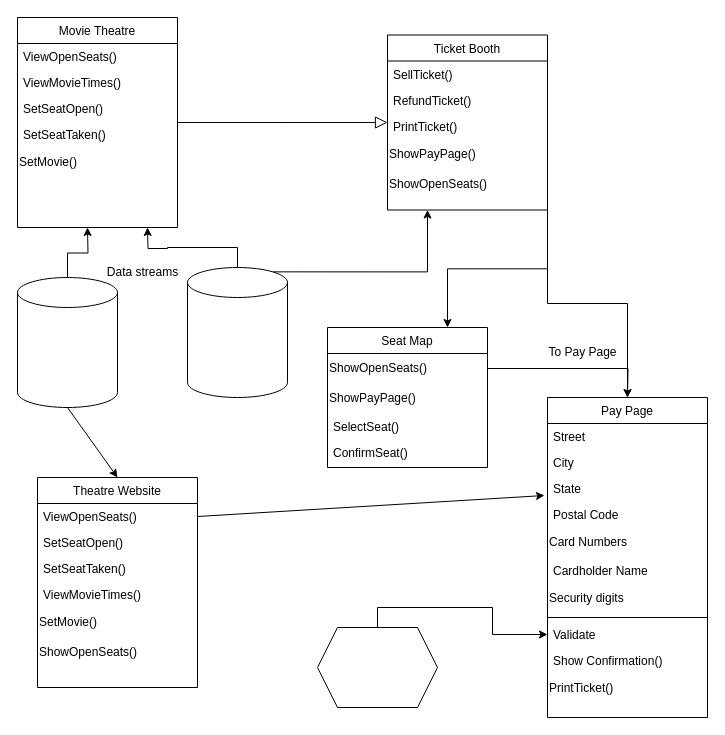
Image size: 725x735. Some labels were removed from this diagram. The centre of each missing label's shape, as x and y in pixels:
Bank Info: point (377, 667)
Database (Available Seats/ times): point (237, 332)
Database (Movie names, Posters, and Titles): point (67, 342)
